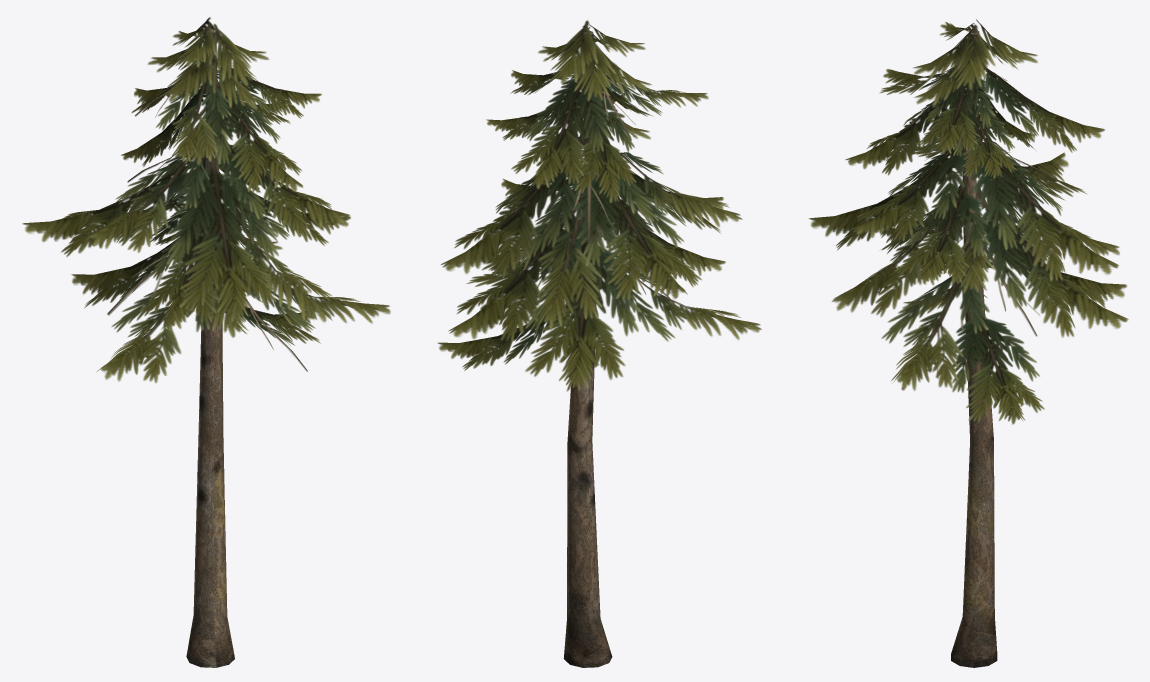
File: fire-large-4.glb
The picture shows the model from 3 angles, left to right: view 1: azimuth 30°, elevation 25°; view 2: azimuth 150°, elevation 25°; view 3: azimuth 270°, elevation 25°; orthographic projection.
Parts seen in each view (by area): view 1: Branches, Tree_bark; view 2: Branches, Tree_bark; view 3: Branches, Tree_bark.
Boxes of the visible parts, left/top/right/bottom form: Branches: left=22, top=17, right=390, bottom=383; Tree_bark: left=186, top=29, right=234, bottom=667; Branches: left=438, top=20, right=761, bottom=391; Tree_bark: left=563, top=31, right=612, bottom=667; Branches: left=808, top=19, right=1128, bottom=424; Tree_bark: left=951, top=30, right=997, bottom=667.
Bounding box in the file's own units: 306 × 624 × 294.
Materials: 2 (2 with a texture image).
